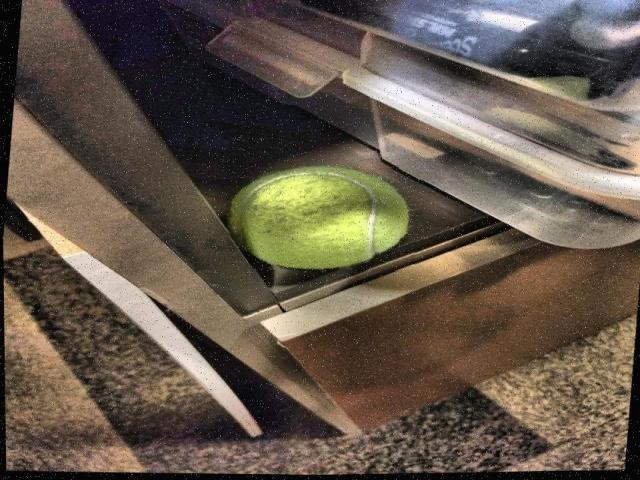tennis-ball: (229, 166, 409, 270)
